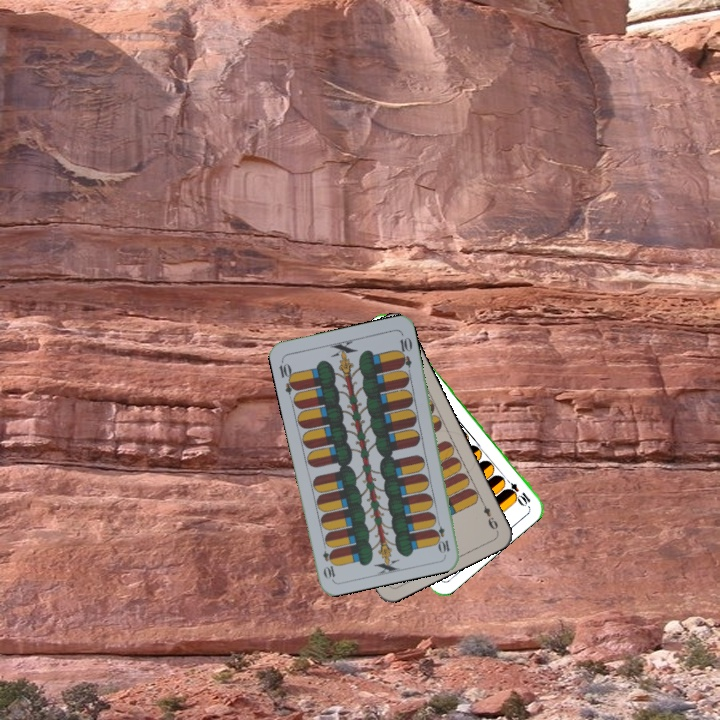E10: (500, 473, 533, 508), (275, 356, 300, 396), (432, 515, 452, 556)
E9: (477, 495, 501, 533)
